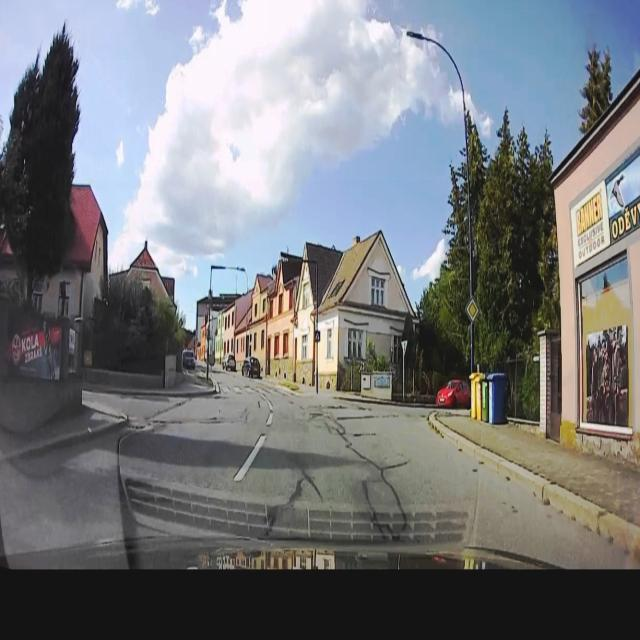Priority road: (466, 296, 480, 327)
